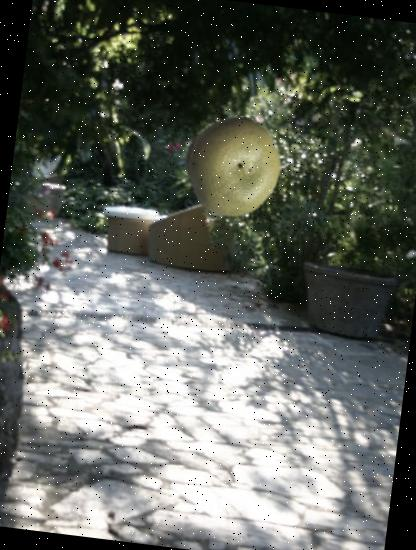Pomelo: (174, 109, 290, 225)
